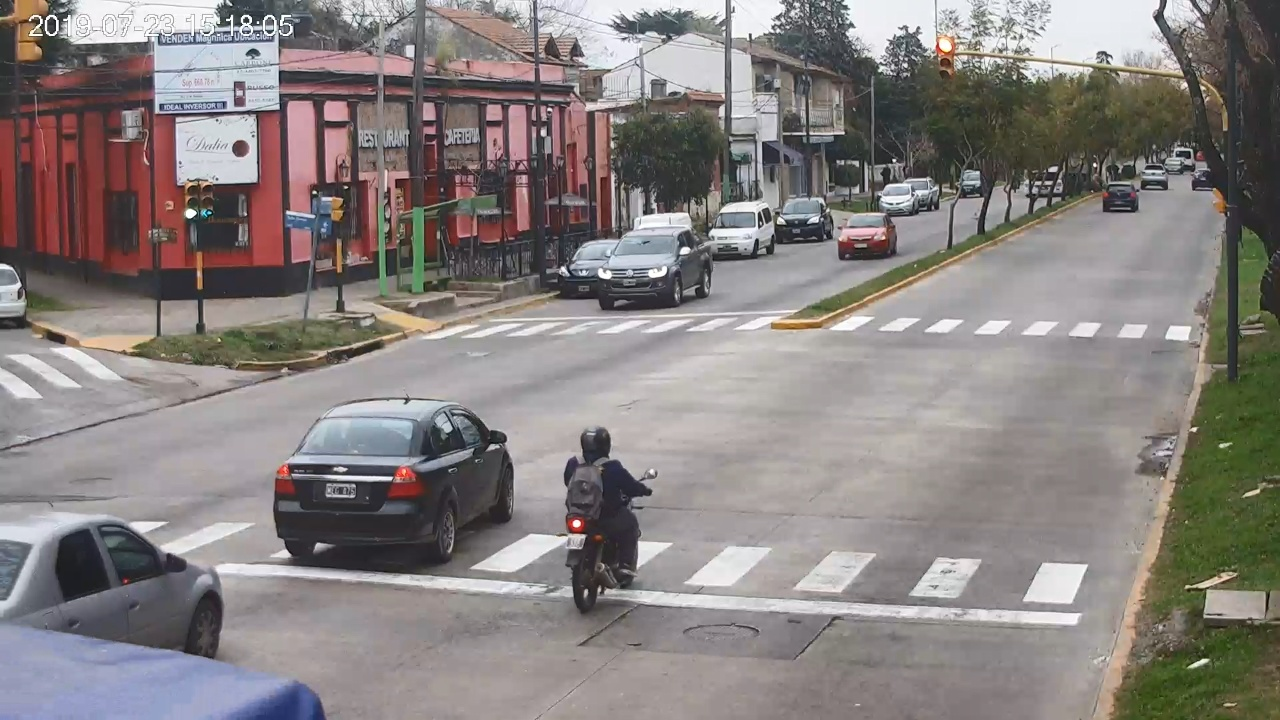car: (274, 398, 515, 561), (1, 513, 225, 659)
motorcycle: (557, 466, 658, 614)
traffic light: (938, 36, 953, 79)
